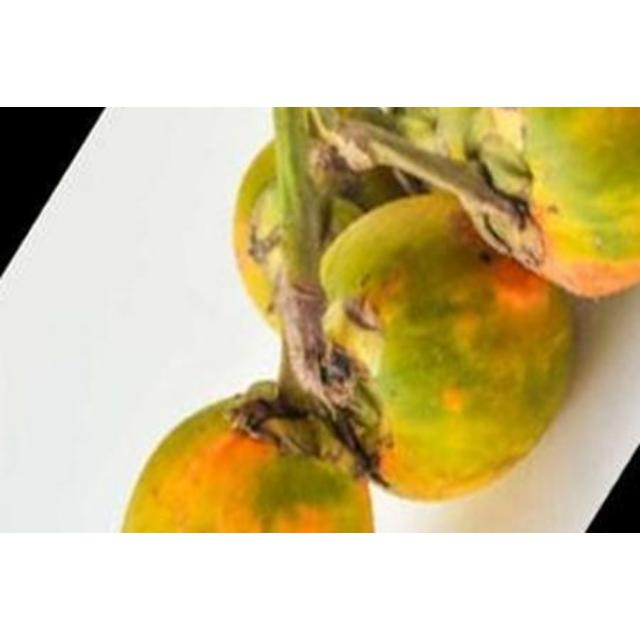good: (121, 107, 639, 532)
